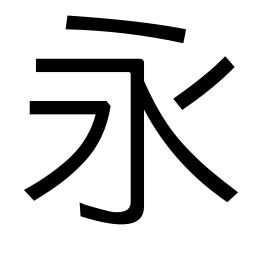D: (63, 12, 187, 44)
HSZ: (115, 54, 152, 83)
Hs: (33, 53, 83, 75)
Ne: (208, 178, 241, 206)
PNc: (147, 94, 192, 131)
PZe: (21, 177, 52, 203)
Ps: (212, 55, 238, 80)
SG: (77, 192, 146, 230)
Sm: (128, 138, 147, 166)
TPZ: (85, 97, 113, 137)
Ts: (27, 97, 62, 119)
